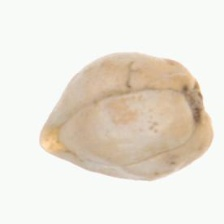L3: (38, 118, 71, 163)
L4: (39, 52, 214, 181)
